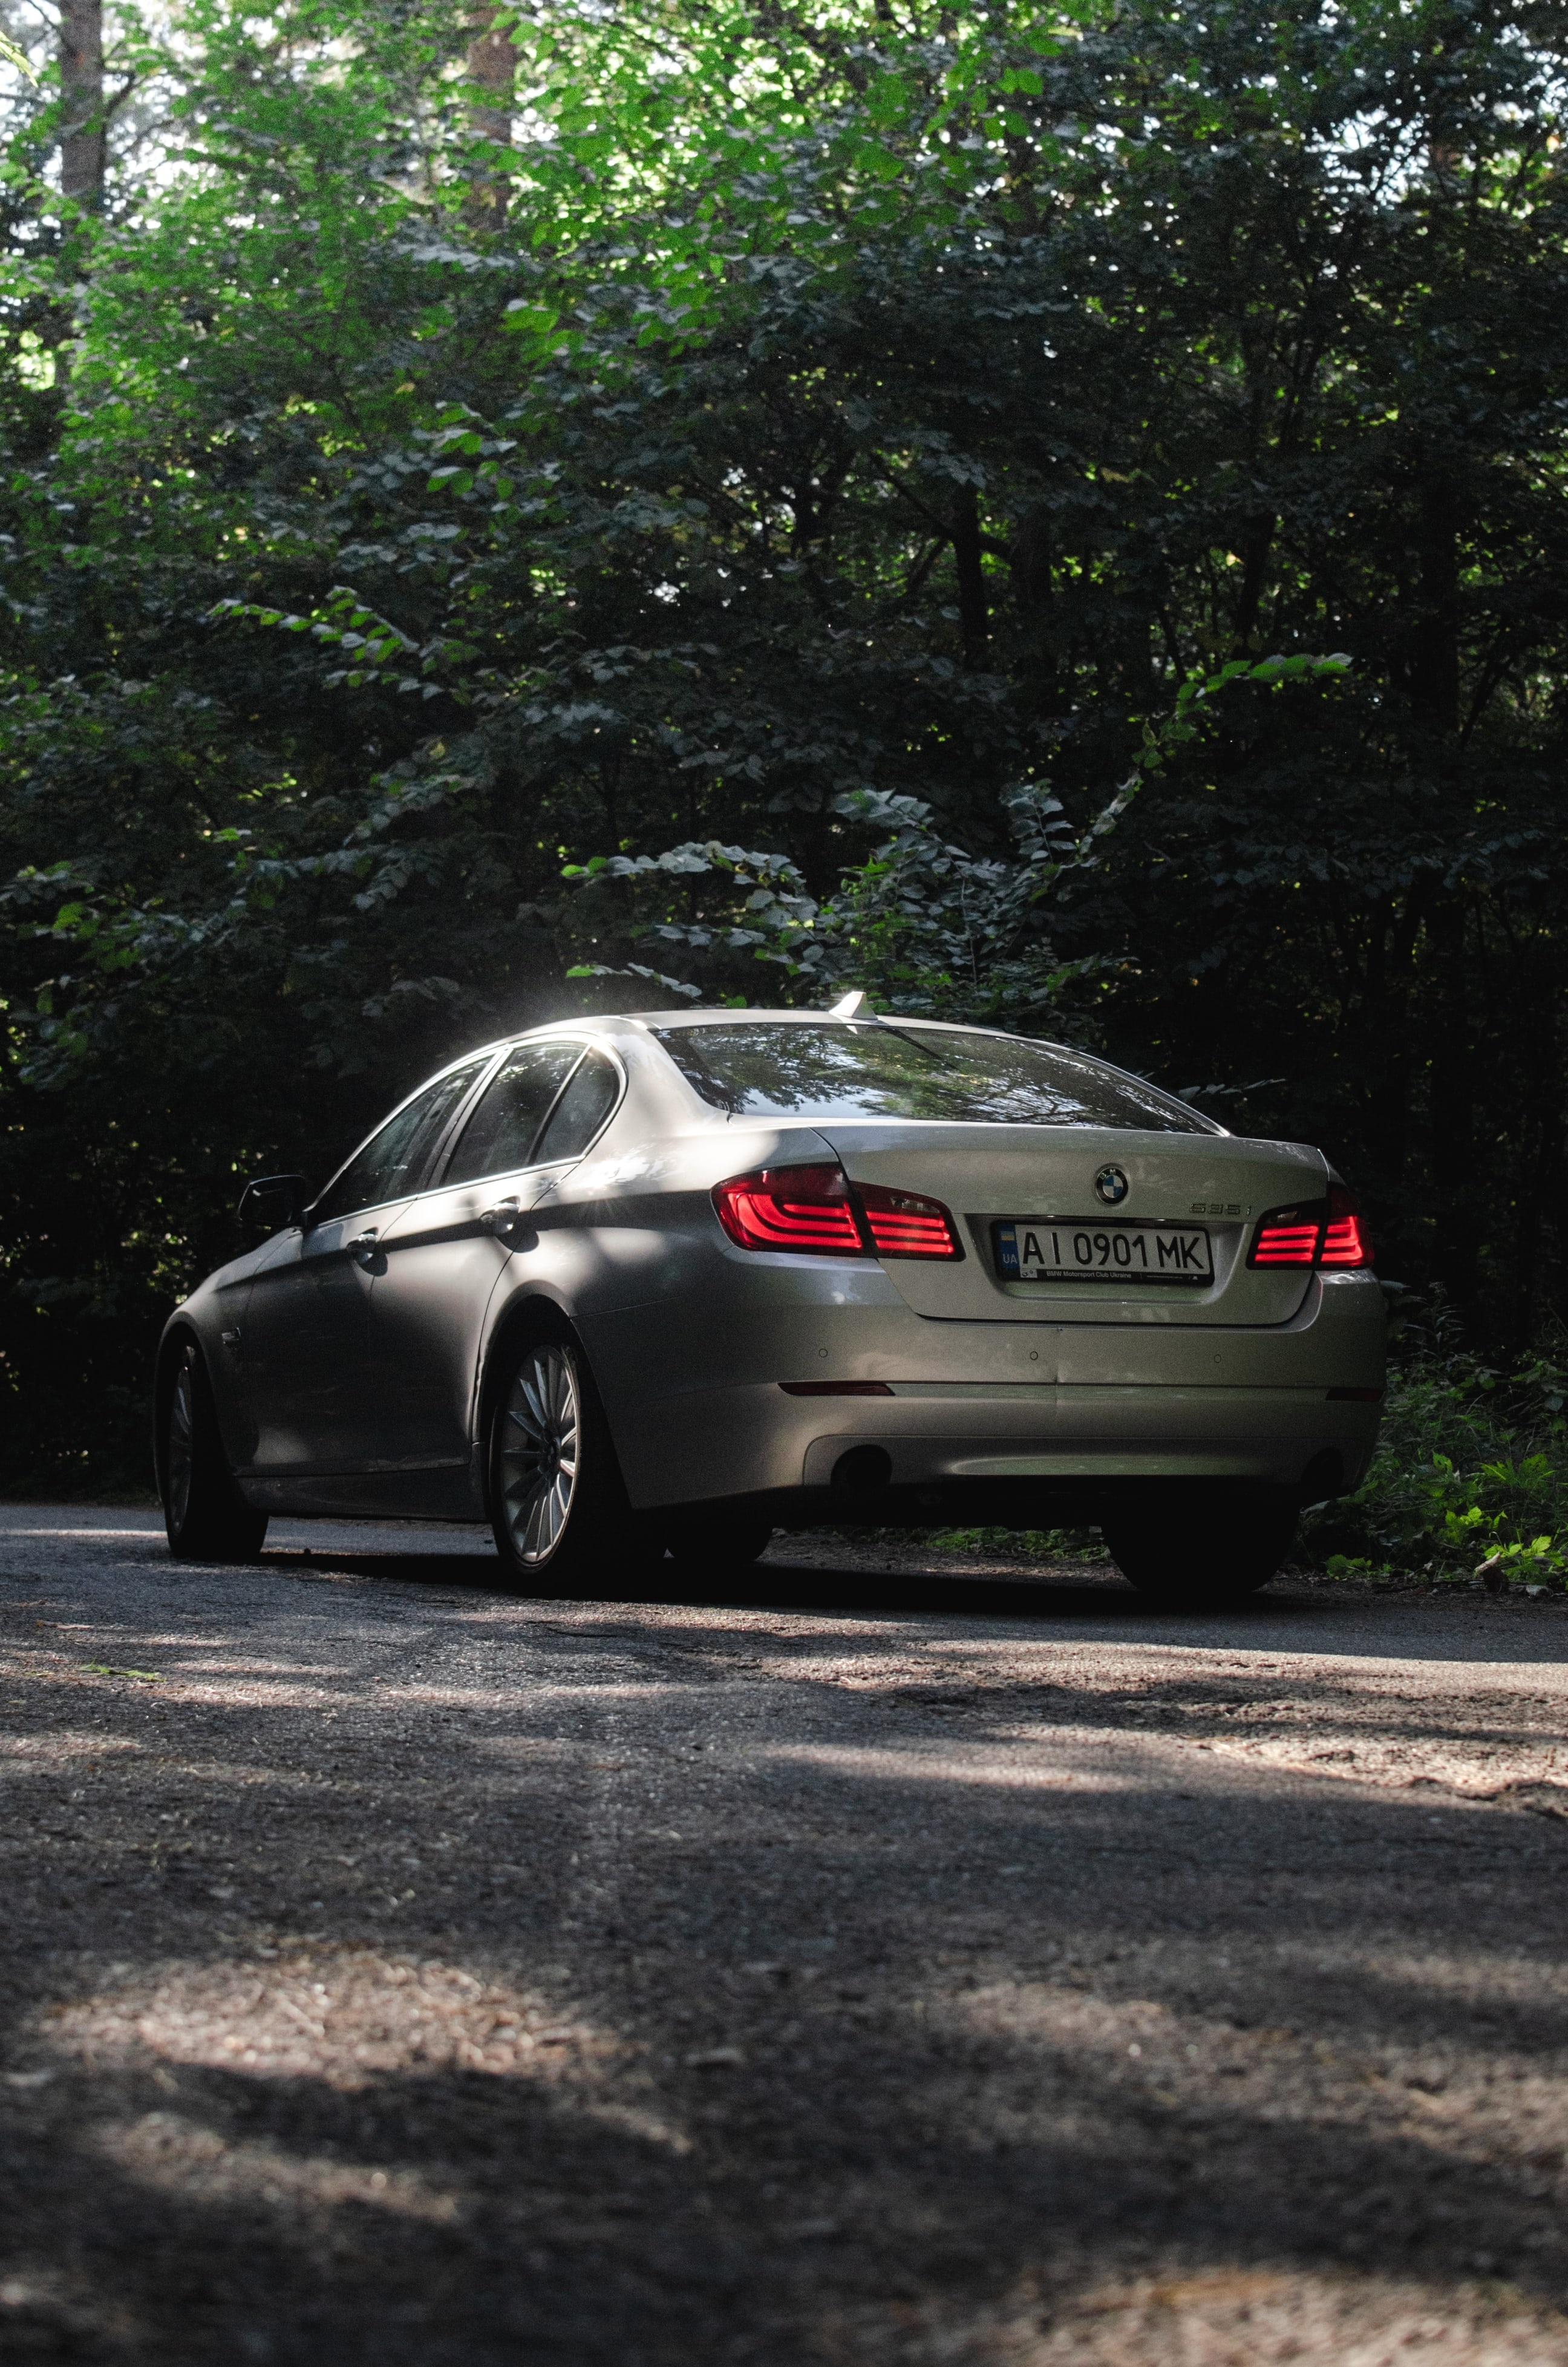plaka: (993, 1224, 1212, 1273)
